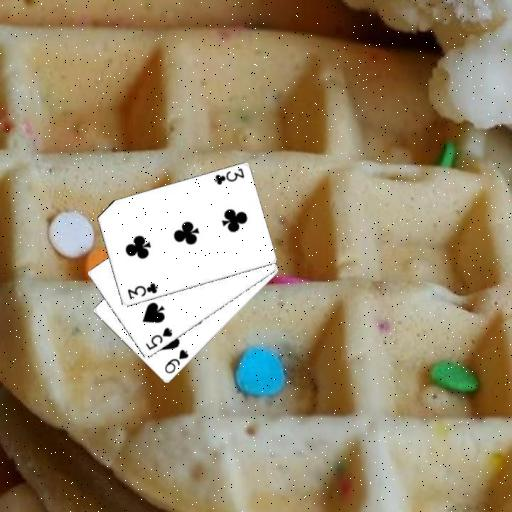3C: (212, 165, 246, 187), (124, 281, 160, 301)
5S: (142, 324, 174, 352)
9S: (162, 347, 190, 376)
